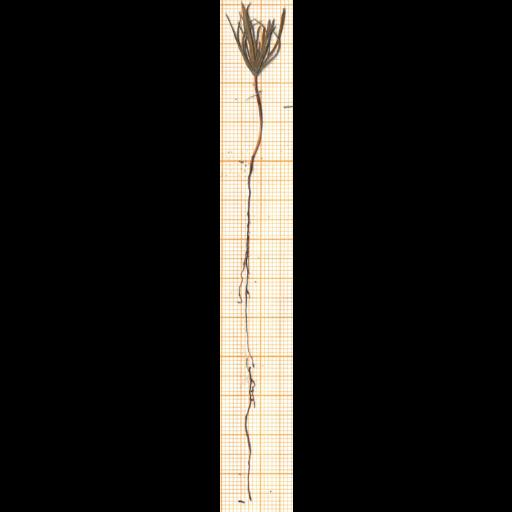flowerPinus: (225, 1, 284, 77)
rootPinus: (239, 163, 254, 366)
stemPinus: (251, 77, 262, 163)
